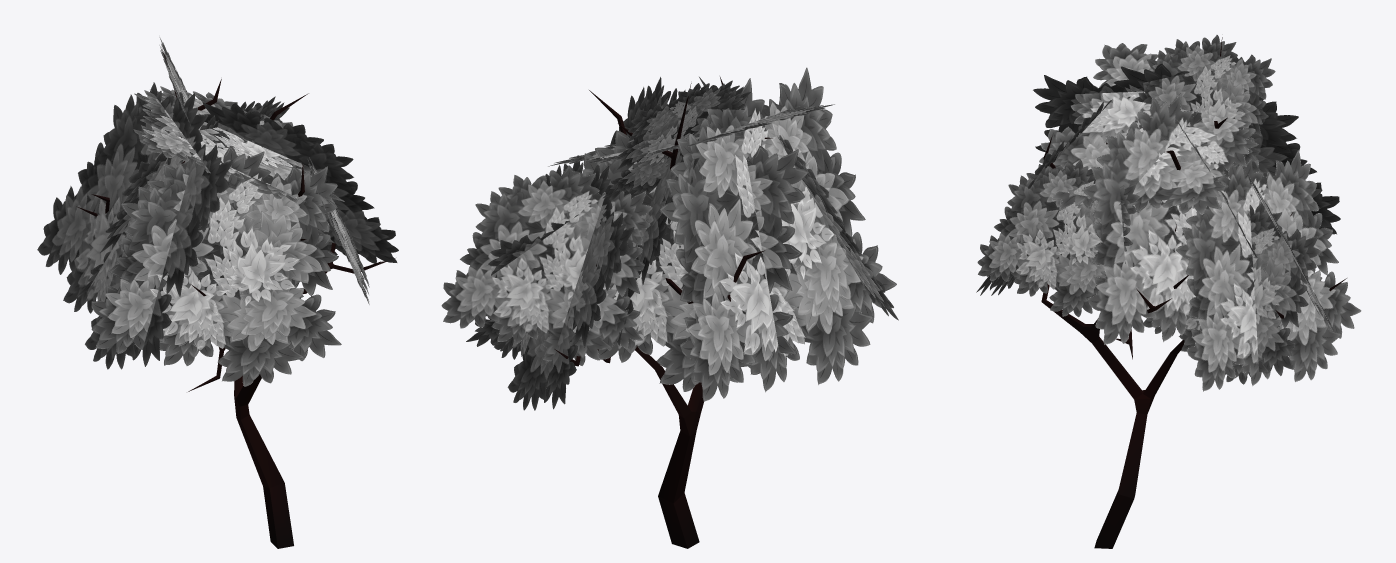
File: TreeOptimizedNew_2.fbx
The picture shows the model from 3 angles, left to right: view 1: azimuth 30°, elevation 25°; view 2: azimuth 150°, elevation 25°; view 3: azimuth 270°, elevation 25°; orthographic projection. The views are drawn at different scales.
Visible parts, largest first — view 1: Cube.003; view 2: Cube.003; view 3: Cube.003.
Boxes of the visible parts, left/top/right/bottom form: Cube.003: left=37, top=37, right=398, bottom=548; Cube.003: left=441, top=67, right=898, bottom=548; Cube.003: left=976, top=35, right=1361, bottom=548.
Size of the model in its own units: 373 by 481 by 387.
